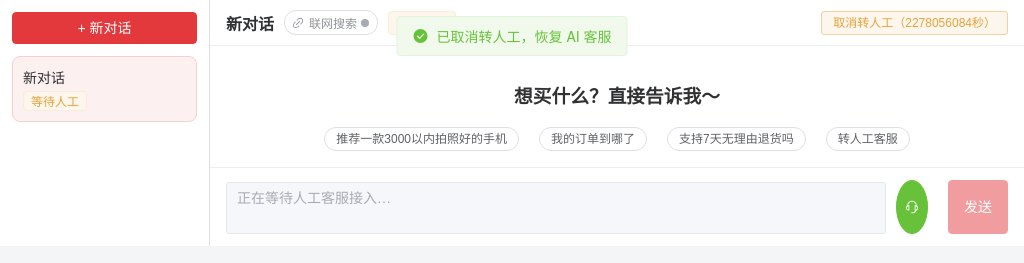
Test case: human handoff controls › restores the AI input after cancellation succeeds
Click the button with class "is-circle".
click(912, 207)  # box [896,180,928,234]
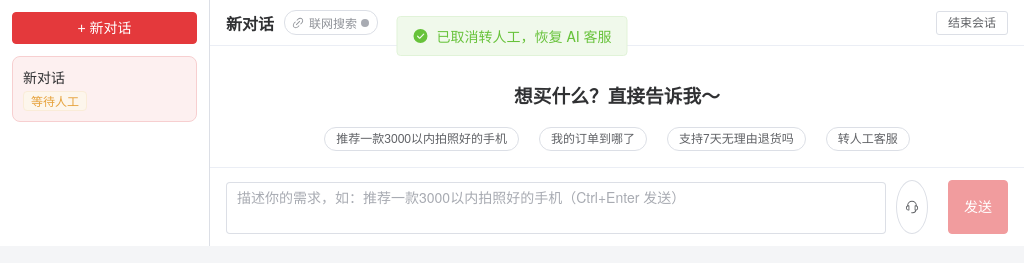
Check: the element with class "chat-header" does not show "取消转人工"
Check: the text box with placeholder "描述你的需求，如：推荐一款3000以内拍照好的手机（Ctrl+Enter 发送）" is enabled, box [226,182,886,234]
